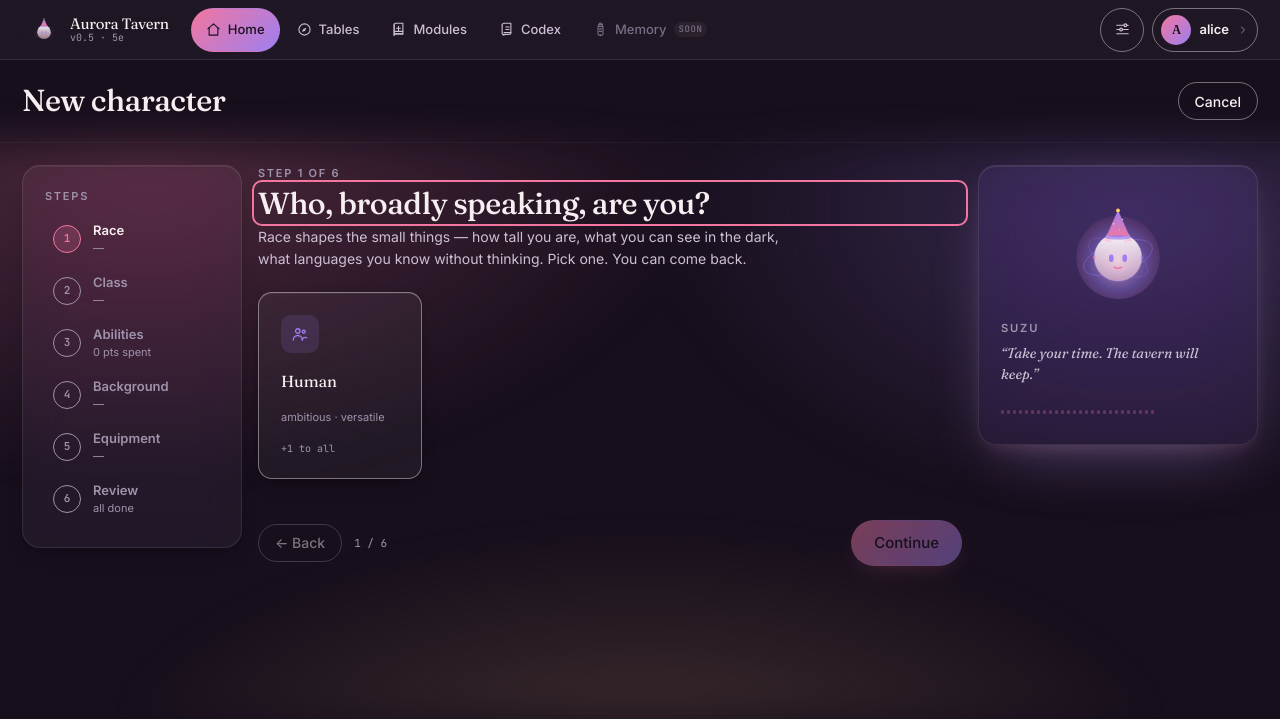
Scenario: Subclass step presence (TAV-WIZARD-HOMEBREW-CASTERS) › is PRESENT for a class with subclassLevel:1 (cleric) even with no Rung menu
What coordinates should you click on to do the following:
click the radio button labelled "Human ambitious · versatile +1 to all"
I would click on:
 (340, 386)
Its box is [258, 292, 422, 479].
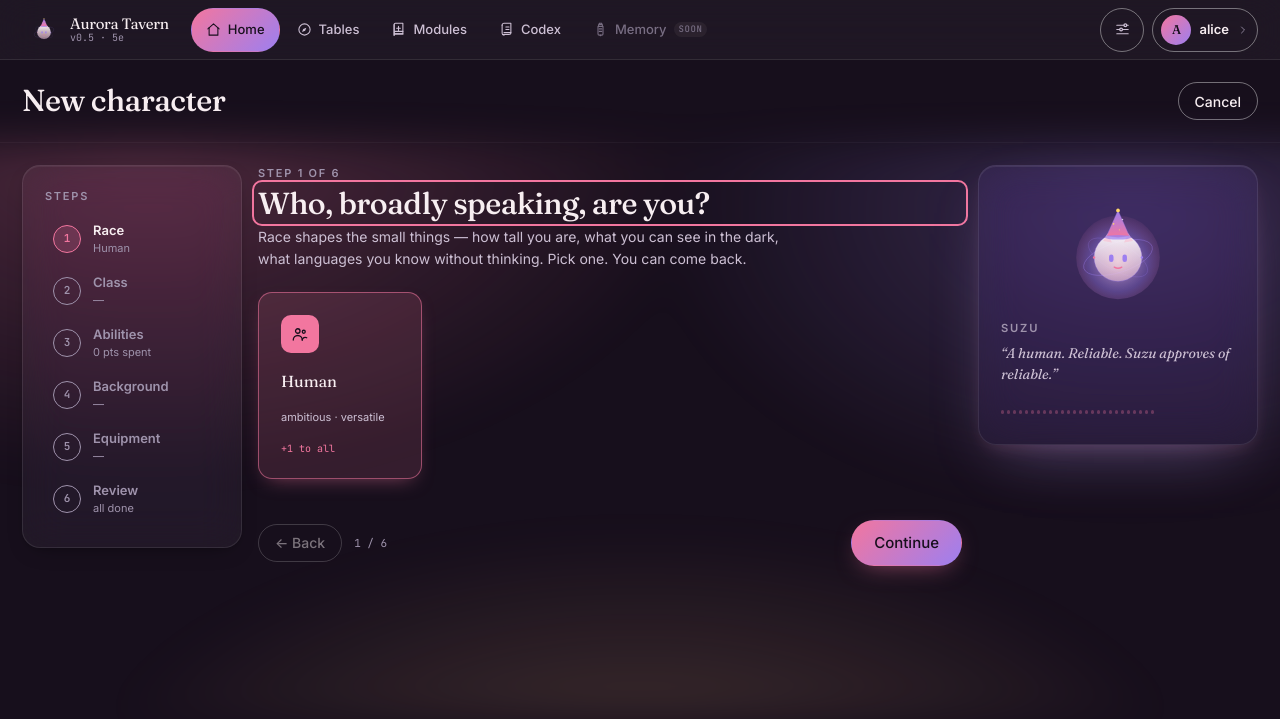
What coordinates should you click on to do the following:
click the button "Continue"
I would click on:
 (907, 543)
Its box is [851, 520, 962, 566].
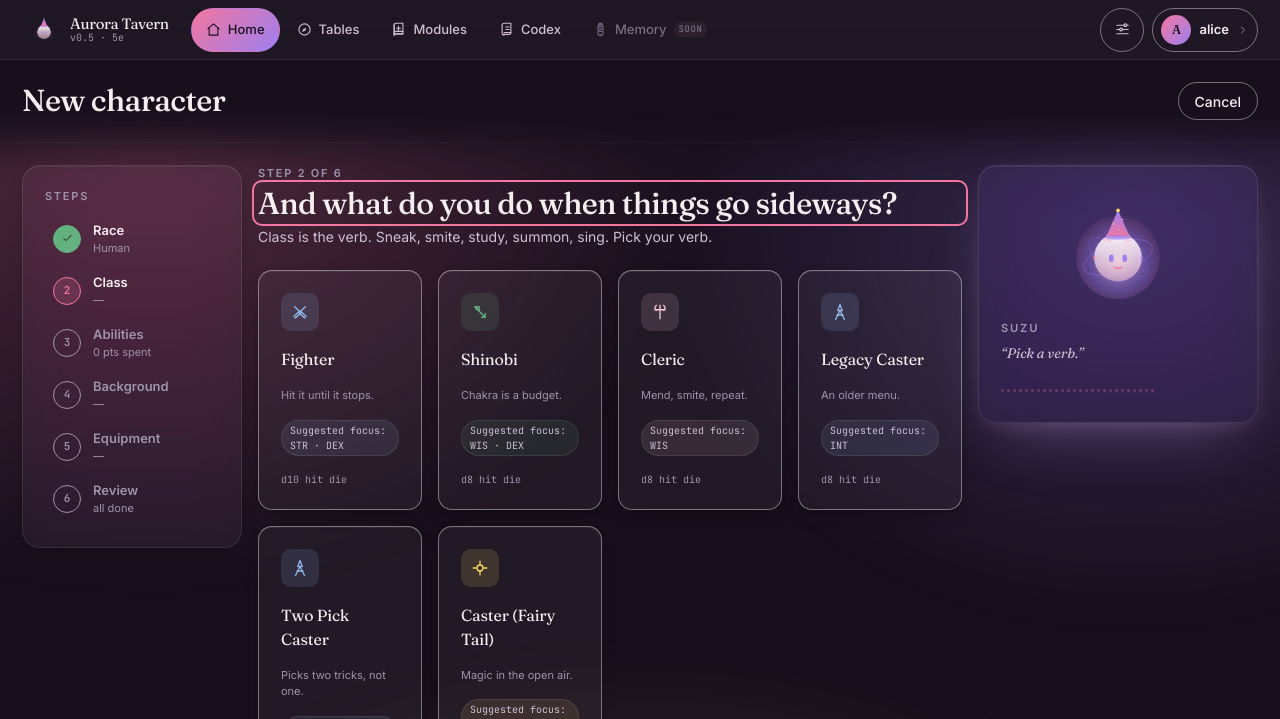
What coordinates should you click on to do the following:
click the radio button labelled "Cleric Mend, smite, repeat. Suggested focus: WIS d8 hit die"
I would click on:
 (700, 390)
Its box is [618, 270, 782, 510].
(page scrolled)
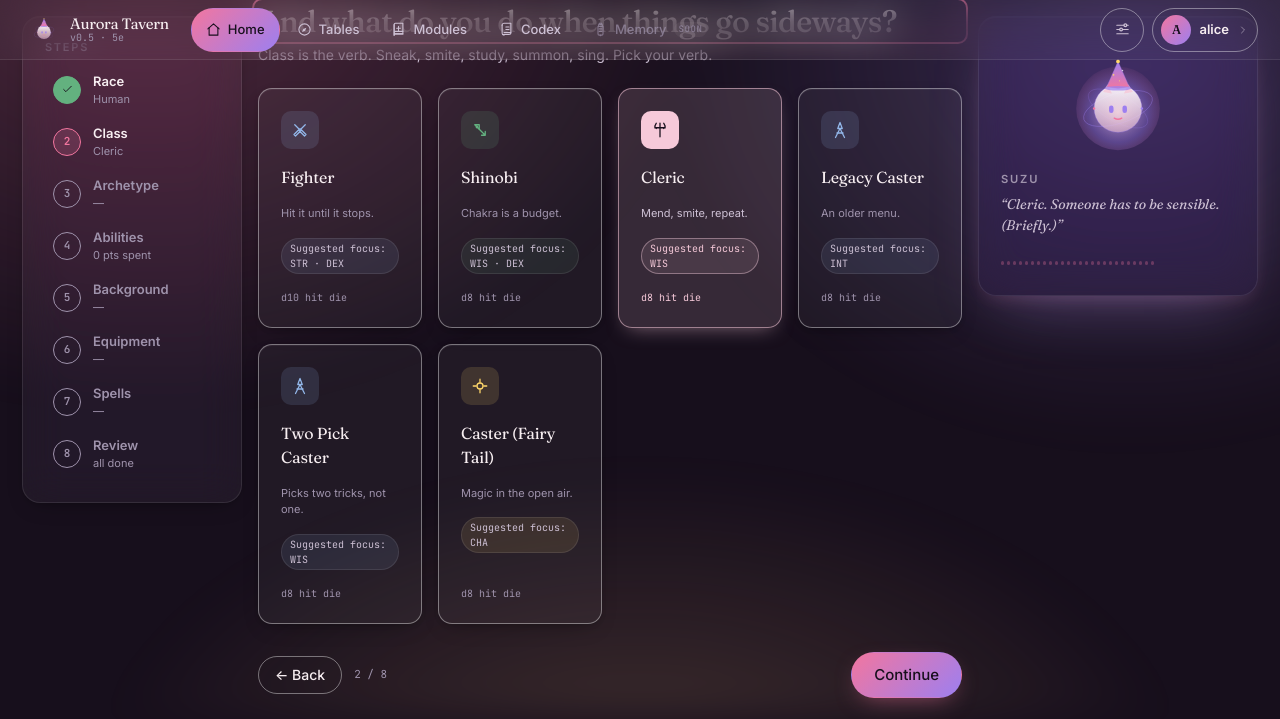
What coordinates should you click on to do the following:
click the button "Continue"
I would click on:
 (907, 675)
Its box is [851, 652, 962, 698].
(page scrolled)
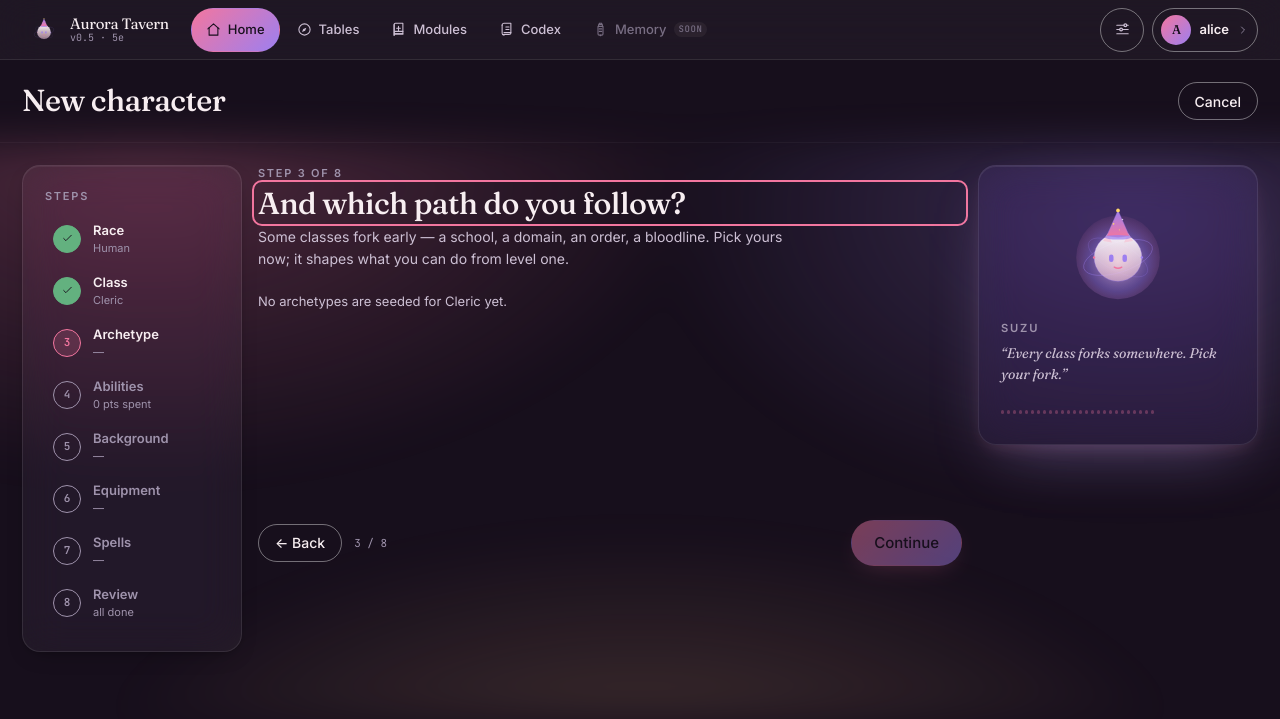
Result: the heading "And which path do you follow?" is shown at [258, 184, 685, 222]
